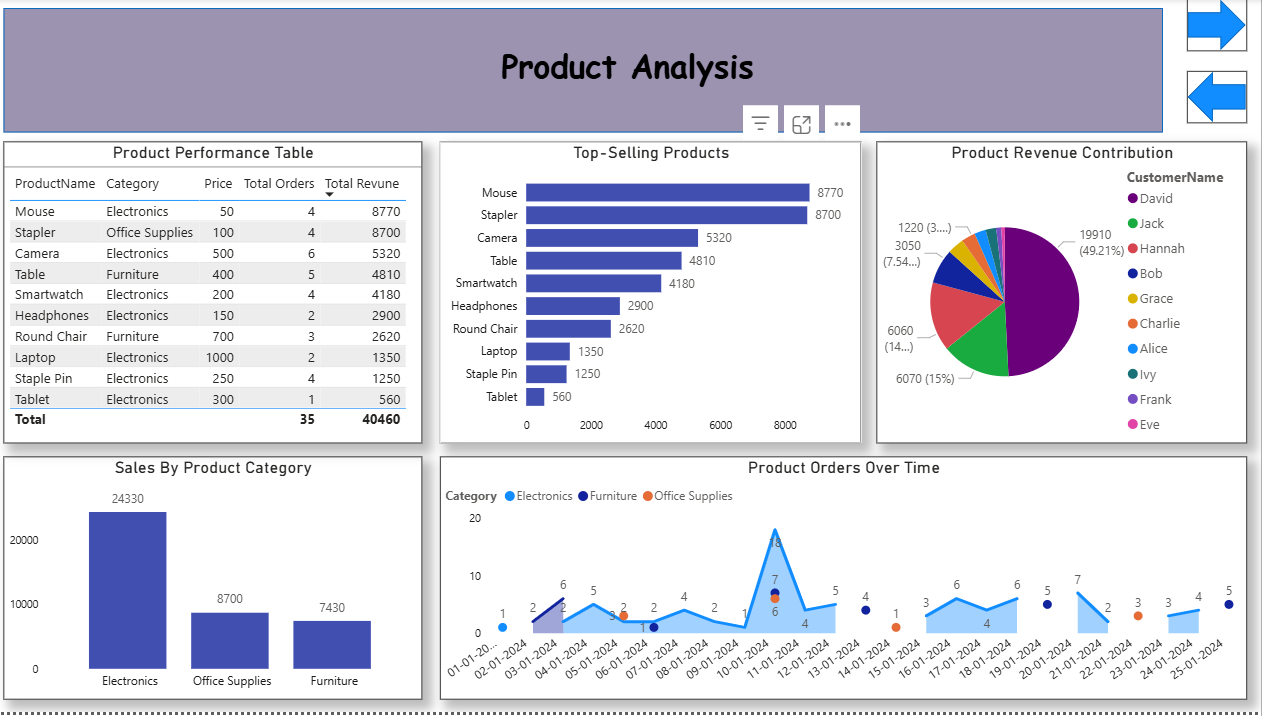

Layout of this report page (visuals, bound fields, positions):
{"tool":"powerbi","page":{"name":"Product Analysis","canvas":[1280,720],"ordinal":2},"visuals":[{"type":"shape","box":[10.6,9.1,1170.5,125.7],"z":0},{"type":"shape","box":[1205.3,0,60.6,53],"z":1000},{"type":"textbox","box":[11,190,1060,150],"z":2000},{"type":"shape","box":[1205.3,72.7,60.6,53],"z":3000},{"type":"textbox","box":[501.2,39.4,278.6,65.1],"z":4000},{"type":"columnChart","title":"Sales By Product Category ","fields":{"Category":["Products.Category"],"Y":["Customers.Total Revune"]},"box":[10.6,461.8,422.5,245.3],"z":5000},{"type":"clusteredBarChart","title":"Top-Selling Products ","fields":{"Category":["Products.ProductName"],"Y":["Orders.TotalPrice"]},"box":[451.2,143.8,425.5,304.4],"z":6000},{"type":"pieChart","title":"Product Revenue Contribution ","fields":{"Category":["Customers.CustomerName"],"Y":["Customers.Total Revune"]},"box":[891.9,143.8,374,304.4],"z":7000},{"type":"tableEx","title":"Product Performance Table","fields":{"Values":["Products.ProductName","Products.Category","Products.Price","Orders.Total Orders","Customers.Total Revune"]},"box":[10.6,143.8,422.5,304.4],"z":8000},{"type":"areaChart","title":"Product Orders Over Time ","fields":{"Series":["Products.Category"],"Y":["Orders.Quantity"],"Category":["Orders.OrderDate.Variation.Date Hierarchy.Year"]},"box":[451.2,461.8,814.6,245.3],"z":9000}]}

Visuals, with their boxes in screenshot pixels (x1, y1, x2, y2), scaled from the page's 1280x720 canvas onto the 1262x716 screenshot:
shape: x1=10 y1=9 x2=1164 y2=134
shape: x1=1188 y1=0 x2=1248 y2=53
textbox: x1=11 y1=189 x2=1056 y2=338
shape: x1=1188 y1=72 x2=1248 y2=125
textbox: x1=494 y1=39 x2=769 y2=104
"Sales By Product Category " columnChart: x1=10 y1=459 x2=427 y2=703
"Top-Selling Products " clusteredBarChart: x1=445 y1=143 x2=864 y2=446
"Product Revenue Contribution " pieChart: x1=879 y1=143 x2=1248 y2=446
"Product Performance Table" tableEx: x1=10 y1=143 x2=427 y2=446
"Product Orders Over Time " areaChart: x1=445 y1=459 x2=1248 y2=703
